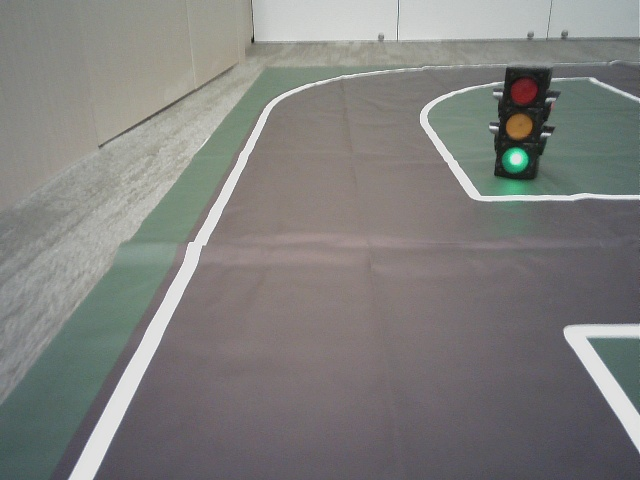green: (502, 71, 536, 179)
